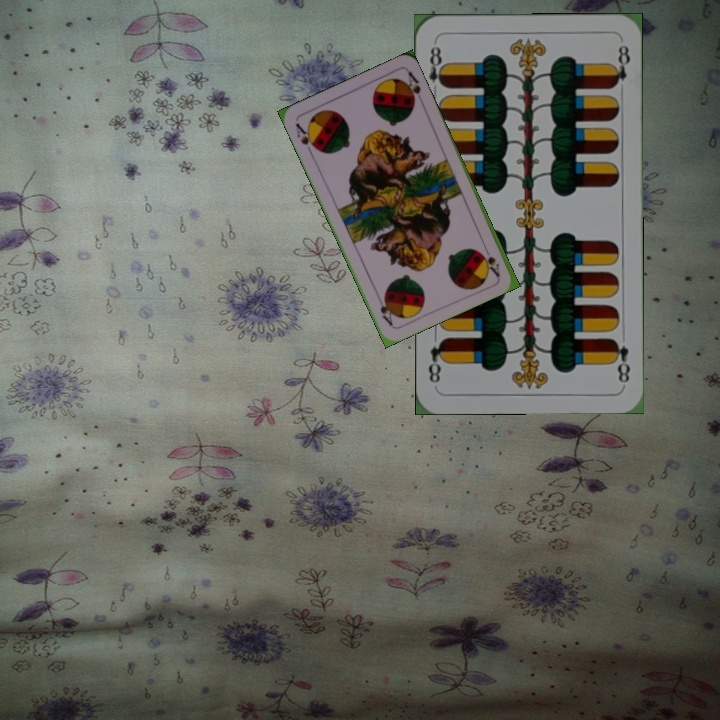E8: (425, 42, 448, 98), (608, 334, 633, 385)
SA: (291, 119, 320, 157), (479, 240, 502, 279)
